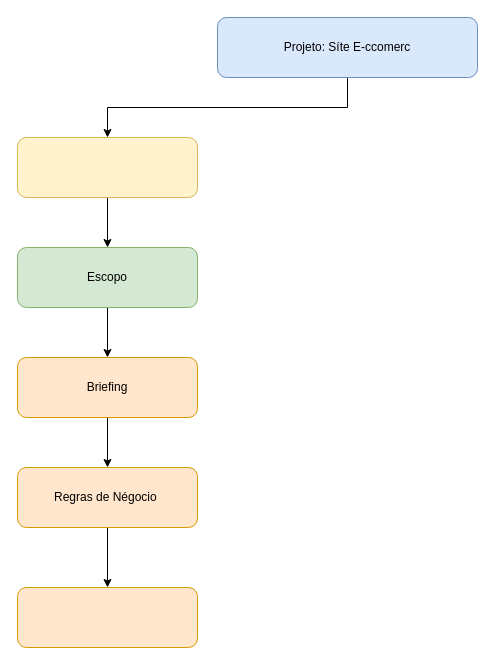
Image size: 495x665. Some labels were removed from this diagram. Each missing label, with the centre of its shape:
Levantamento de Projeto: [107,167]
Levantamento de Requisitos: [107,617]
